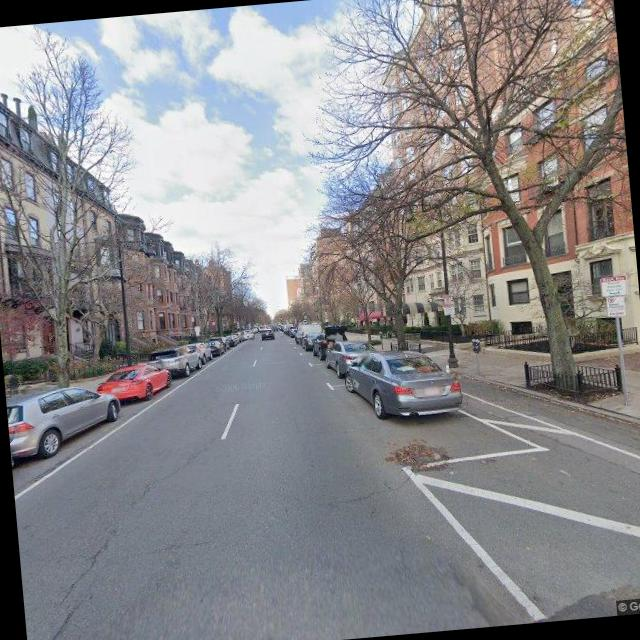crack: (38, 531, 123, 640), (304, 476, 412, 511), (120, 532, 216, 561)
